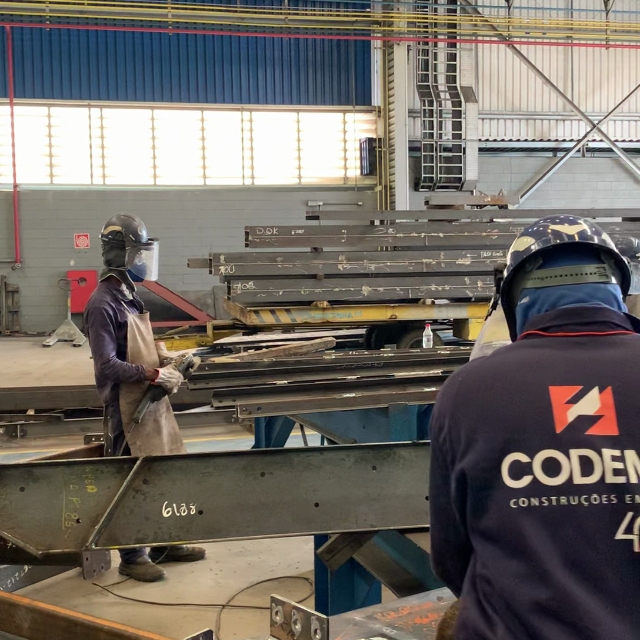face-shield: (126, 237, 161, 283), (151, 360, 185, 395)
helmet: (99, 212, 148, 242)
person: (80, 211, 202, 454)
safety-shoe: (117, 547, 170, 582), (148, 547, 204, 566)
